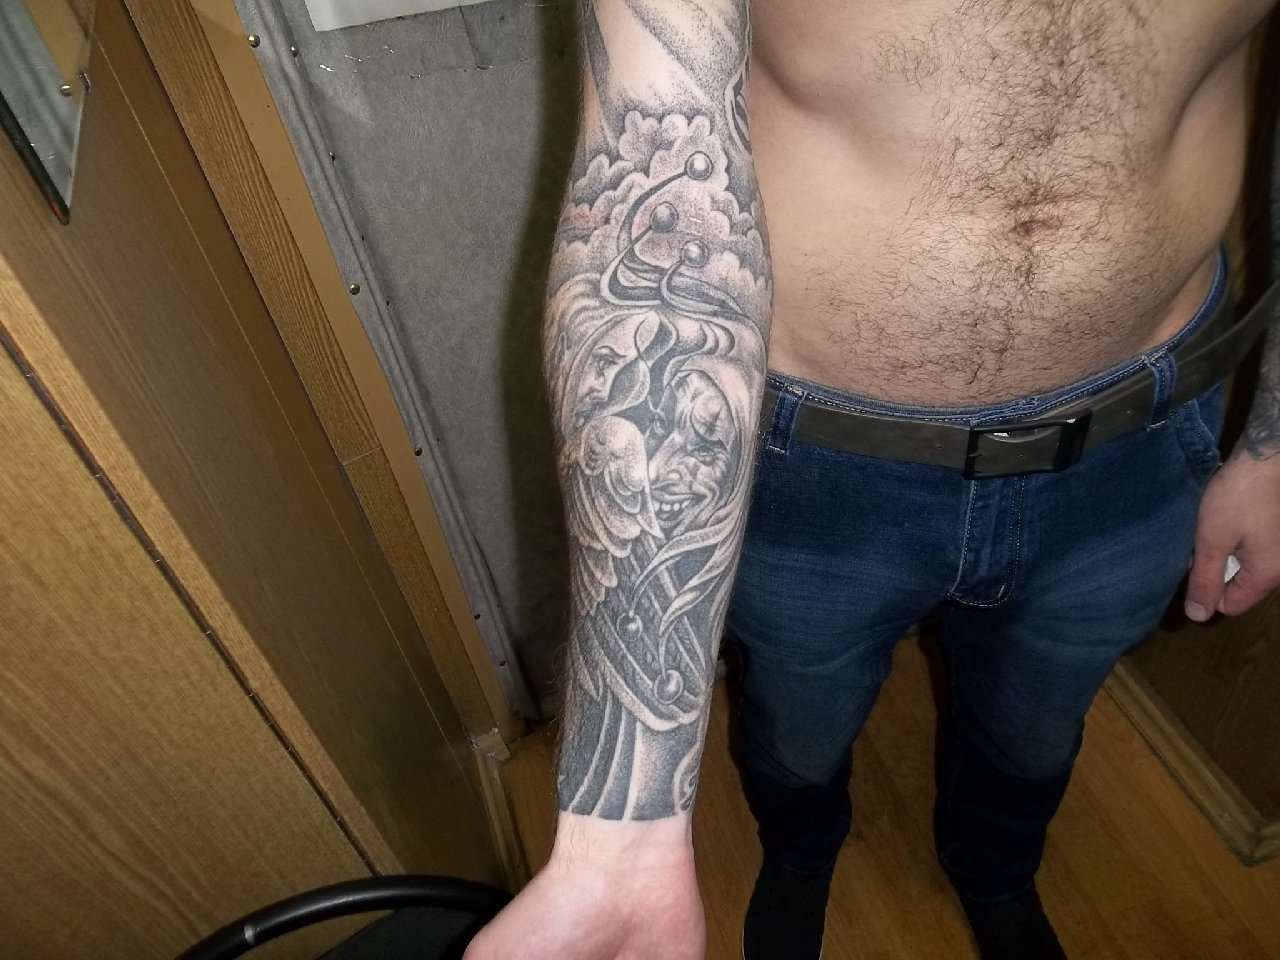tatu1_angel: (544, 276, 664, 607)
